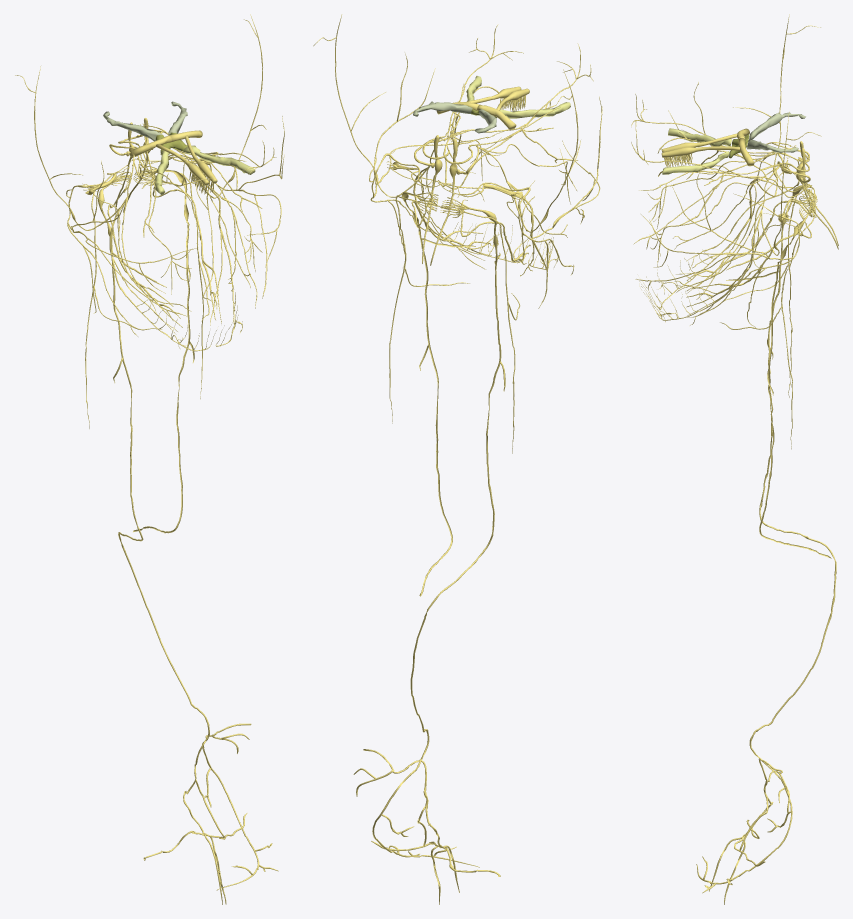
File: cranial-nerves.lod2.glb
3 renders of one model, left to right at view 1: azimuth 30°, elevation 25°; view 2: azimuth 150°, elevation 25°; view 3: azimuth 270°, elevation 25°, orthographic. The views are drawn at different scales.
Visible parts, largest first — view 1: vagus-nerve-x-r, facial-nerve-vii-r, vagus-nerve-x-l, facial-nerve-vii-l, olfactory-nerve-i-r, olfactory-nerve-i-l, hypoglossal-nerve-xii-l, glossopharyngeal-nerve-ix-r, optic-nerve-l; view 2: vagus-nerve-x-r, vagus-nerve-x-l, facial-nerve-vii-l, facial-nerve-vii-r, olfactory-nerve-i-r, glossopharyngeal-nerve-ix-l, glossopharyngeal-nerve-ix-r; view 3: vagus-nerve-x-r, facial-nerve-vii-l, vagus-nerve-x-l, facial-nerve-vii-r, olfactory-nerve-i-l, glossopharyngeal-nerve-ix-l, hypoglossal-nerve-xii-r, hypoglossal-nerve-xii-l, olfactory-nerve-i-r, optic-nerve-l, glossopharyngeal-nerve-ix-r, optic-nerve-r (+1 smaller).
Boxes of the visible parts, box(x1,y1,x2,y2) form: vagus-nerve-x-r: box(98, 172, 278, 904); facial-nerve-vii-r: box(66, 159, 198, 336); vagus-nerve-x-l: box(133, 166, 194, 533); facial-nerve-vii-l: box(135, 116, 284, 308); olfactory-nerve-i-r: box(132, 135, 209, 194); olfactory-nerve-i-l: box(169, 130, 217, 192); hypoglossal-nerve-xii-l: box(133, 172, 218, 319); glossopharyngeal-nerve-ix-r: box(85, 172, 162, 428); optic-nerve-l: box(184, 145, 255, 174); vagus-nerve-x-r: box(353, 197, 505, 904); vagus-nerve-x-l: box(401, 191, 475, 596); facial-nerve-vii-l: box(369, 53, 508, 267); facial-nerve-vii-r: box(441, 96, 602, 308); olfactory-nerve-i-r: box(477, 88, 529, 130); glossopharyngeal-nerve-ix-l: box(389, 191, 469, 423); glossopharyngeal-nerve-ix-r: box(441, 194, 520, 453); vagus-nerve-x-r: box(696, 185, 836, 904); facial-nerve-vii-l: box(635, 168, 812, 327); vagus-nerve-x-l: box(726, 198, 831, 558); facial-nerve-vii-r: box(633, 82, 811, 270); olfactory-nerve-i-l: box(661, 138, 754, 167); glossopharyngeal-nerve-ix-l: box(720, 197, 817, 449); hypoglossal-nerve-xii-r: box(687, 196, 817, 290); hypoglossal-nerve-xii-l: box(686, 200, 817, 307); olfactory-nerve-i-r: box(661, 128, 749, 163); optic-nerve-l: box(662, 151, 729, 174); glossopharyngeal-nerve-ix-r: box(721, 186, 817, 397); optic-nerve-r: box(668, 128, 731, 146).
Size of the model in its own units: 0.1531 by 0.5423 by 0.1245.
